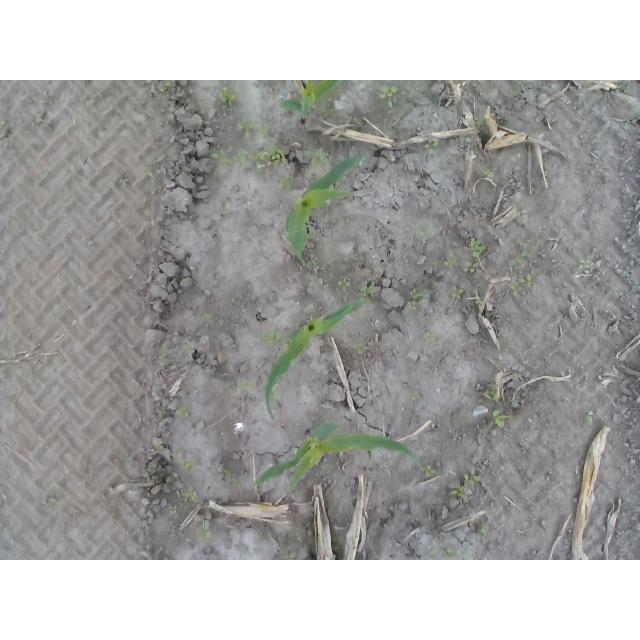Maize: (254, 415, 423, 493), (262, 296, 367, 420), (287, 149, 369, 268), (279, 80, 346, 128)
Weeds: (209, 145, 288, 175), (424, 540, 473, 561), (447, 472, 481, 501), (257, 325, 284, 353), (302, 145, 330, 171), (462, 235, 487, 257), (378, 85, 399, 110), (239, 119, 258, 140), (236, 375, 258, 393), (217, 85, 236, 105), (492, 409, 511, 429), (507, 249, 527, 267), (223, 469, 241, 489), (418, 220, 435, 240), (407, 287, 422, 309), (276, 172, 294, 190), (178, 487, 198, 502), (175, 404, 193, 420), (472, 167, 497, 178), (578, 258, 595, 274), (157, 80, 177, 93), (176, 459, 193, 474), (517, 272, 532, 288), (337, 276, 352, 292), (479, 521, 493, 538), (424, 139, 440, 153), (423, 328, 437, 344), (475, 111, 488, 128), (361, 285, 379, 297), (420, 463, 435, 477), (197, 527, 212, 541), (451, 284, 464, 300), (462, 261, 478, 274), (447, 254, 458, 272), (583, 410, 594, 427), (352, 344, 372, 353), (489, 382, 498, 402), (410, 390, 422, 403), (143, 166, 154, 179), (0, 116, 8, 131), (119, 177, 130, 187), (260, 127, 271, 137), (475, 295, 485, 305), (168, 505, 178, 515), (204, 312, 215, 321), (282, 552, 294, 560), (185, 344, 195, 352), (40, 122, 49, 129)
